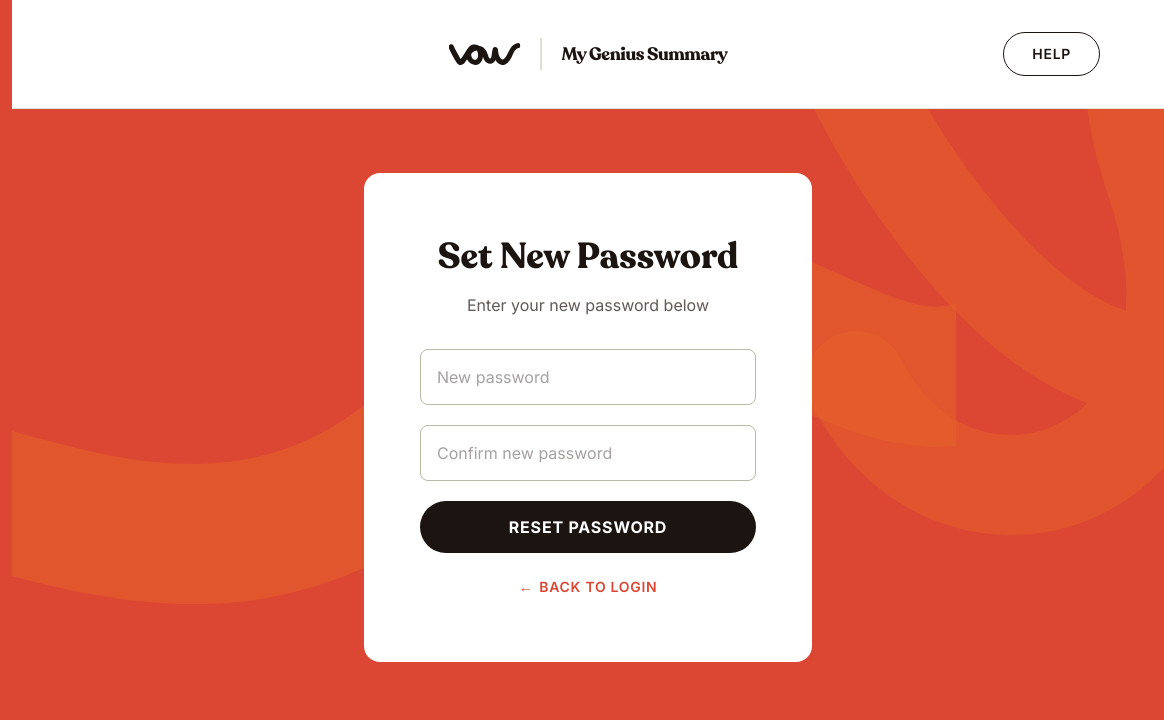
Test: PasswordResetPage › shows server error and re-enables button
Type "password123" into the password field labelled "New password" at {"x": 588, "y": 377}, box [420,349,756,405]
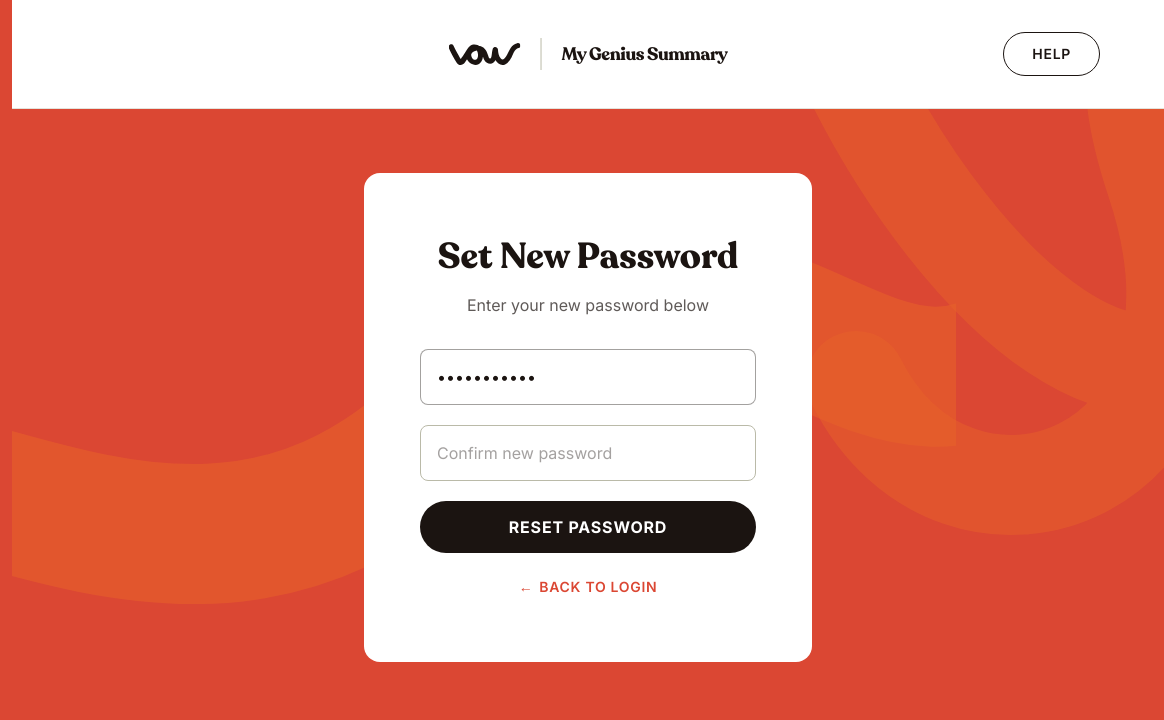
Type "password123" into the password field labelled "Confirm new password" at {"x": 588, "y": 453}, box [420,425,756,481]
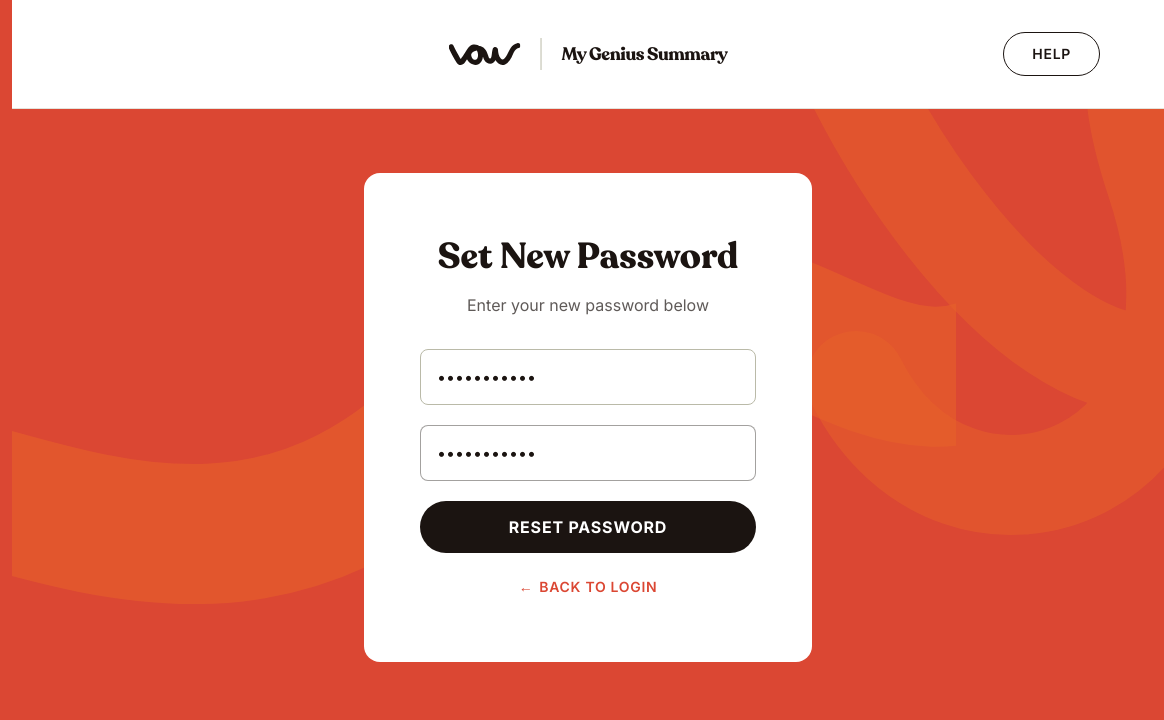
Click the button "Reset Password" at {"x": 588, "y": 527}, box [420,501,756,553]
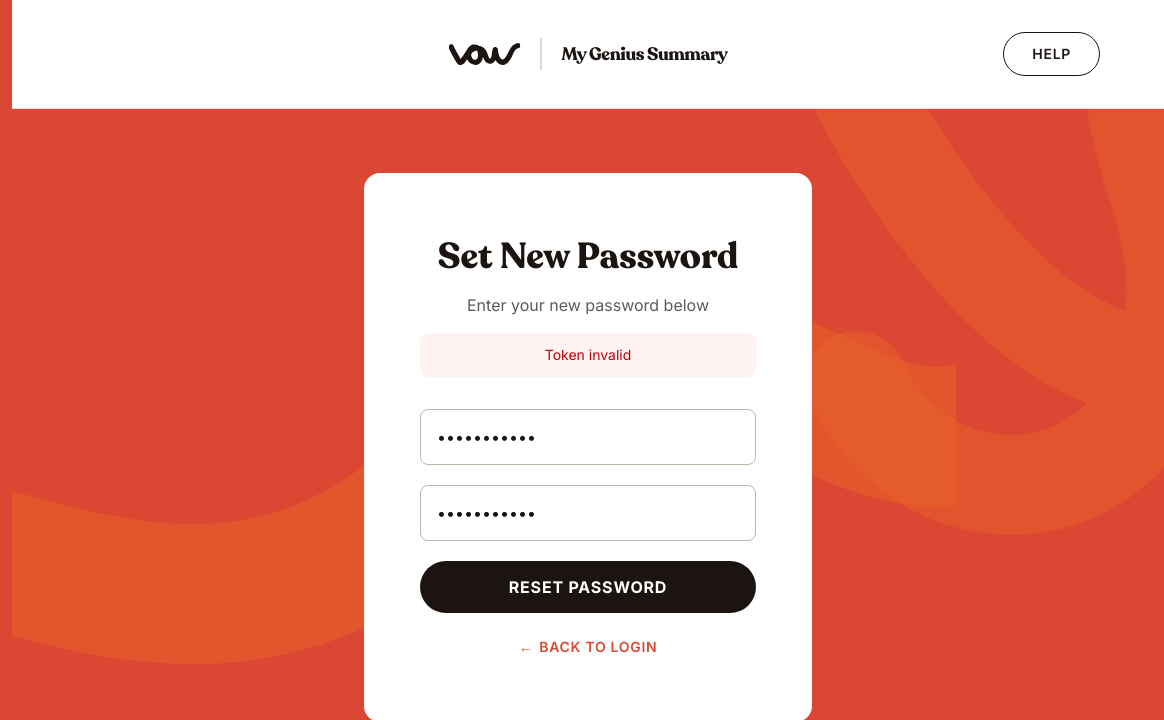
expect the button "Reset Password" is enabled: met, box [420,561,756,613]
expect the text "Token invalid" is shown: met, box [420,333,756,377]
